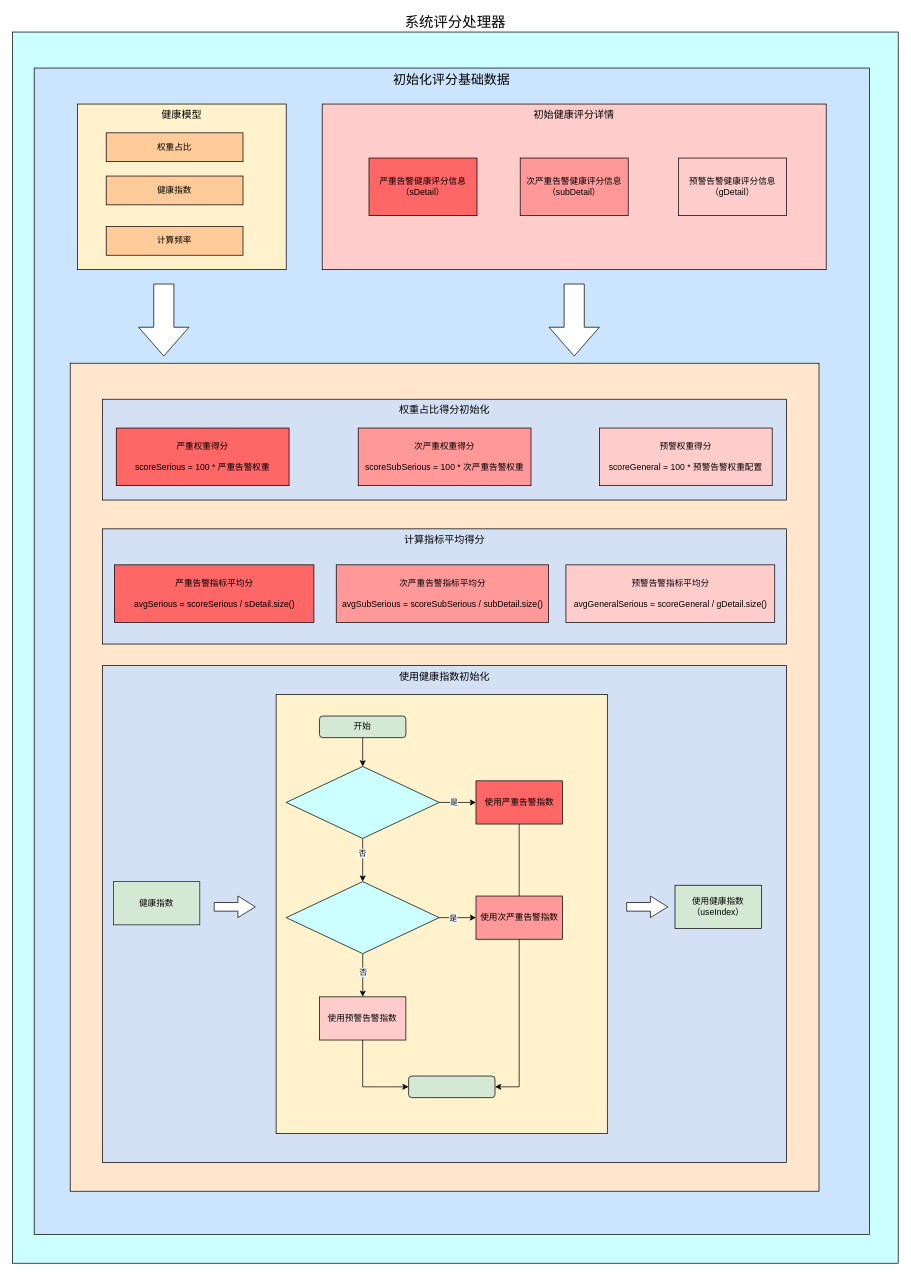
This 911x1276 diagram has some shape labels left out. The centre of each missing label's shape, as x and y in pixels:
"严重告警健康评分信息 （sDetail）存在严重告警" goes at (x=362, y=802).
"次严重告警健康评分信息 （subDetail）存在严重告警" goes at (x=362, y=917).
"结束" goes at (x=451, y=1086).
